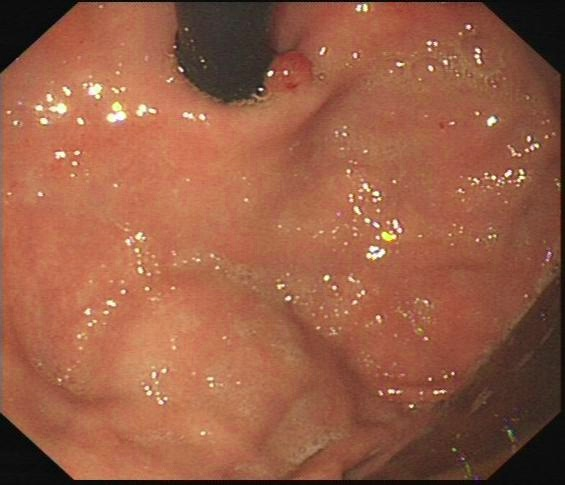Polyp: (252, 37, 326, 116)
